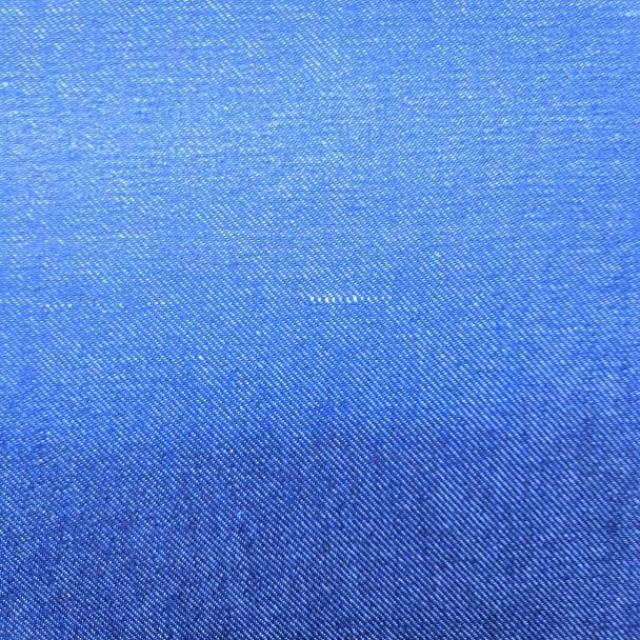Knot: (306, 293, 393, 306)
